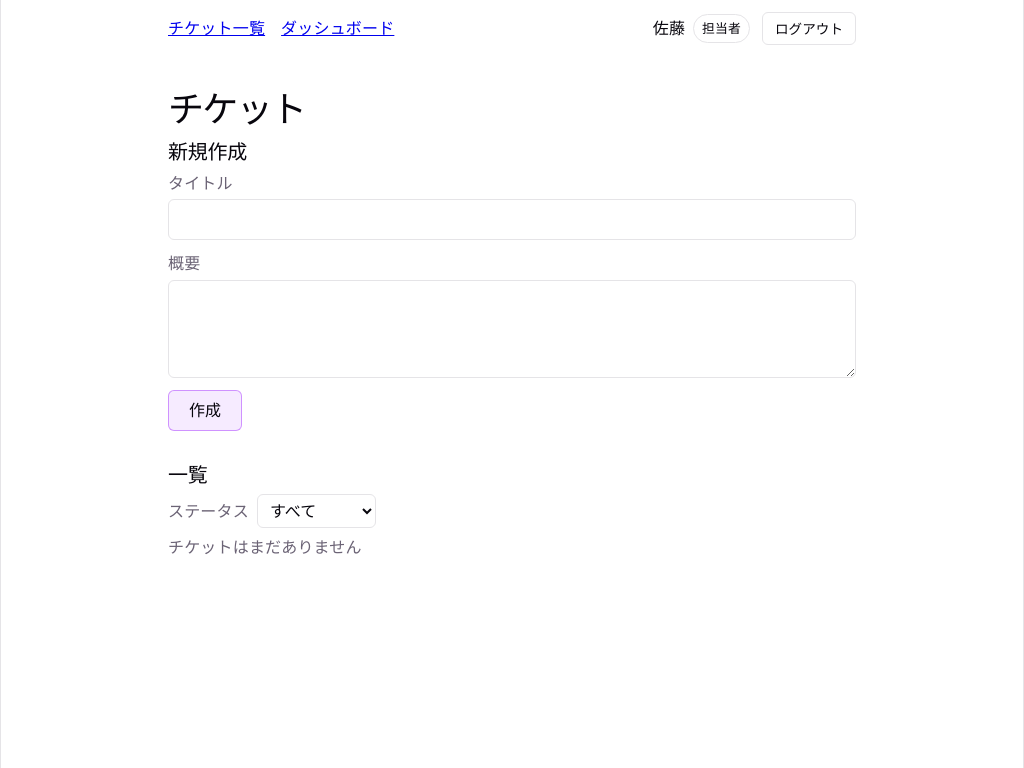
it: ログイン › ヘッダーのリンクで、一覧とダッシュボードを行き来できる
Expected: the text "チケットはまだありません" is shown, [168,536,362,558]
What coordinates should you click on to do the following:
click the link "ダッシュボード"
I would click on:
 (338, 29)
Its box is [281,17,394,40].
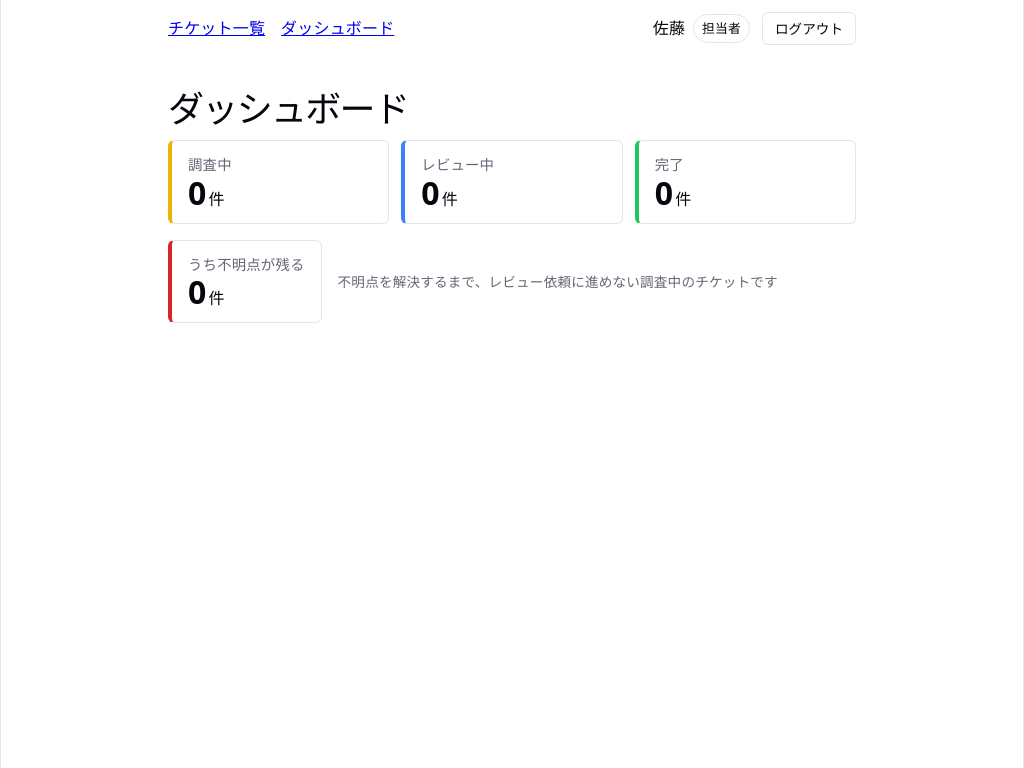
Now the heading "ダッシュボード" is shown, box [168,84,408,133]
